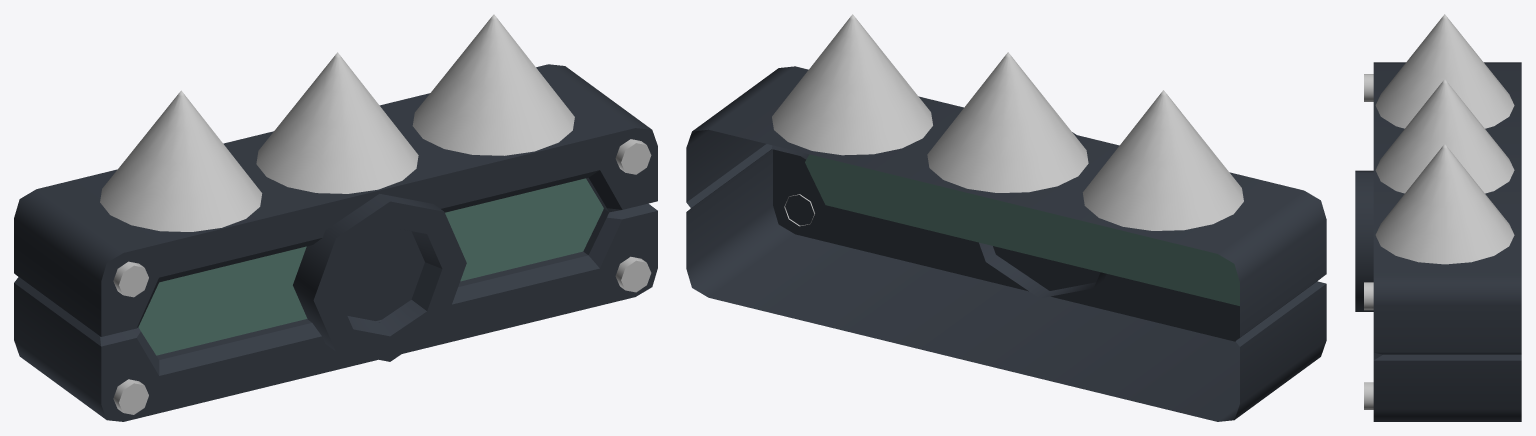
The model's file is baoshijiguan.FBX.
3 renders of one model, left to right at view 1: azimuth 30°, elevation 25°; view 2: azimuth 150°, elevation 25°; view 3: azimuth 270°, elevation 25°, orthographic. The views are drawn at different scales.
Visible parts, largest first — view 1: 宝石机关; view 2: 宝石机关; view 3: 宝石机关.
Part boxes in pixels (x1=…): 宝石机关: x1=14, y1=14, x2=657, y2=421; 宝石机关: x1=686, y1=14, x2=1326, y2=421; 宝石机关: x1=1355, y1=14, x2=1521, y2=421.
Bounding box in the file's own units: 125 × 59.49 × 38.11.
